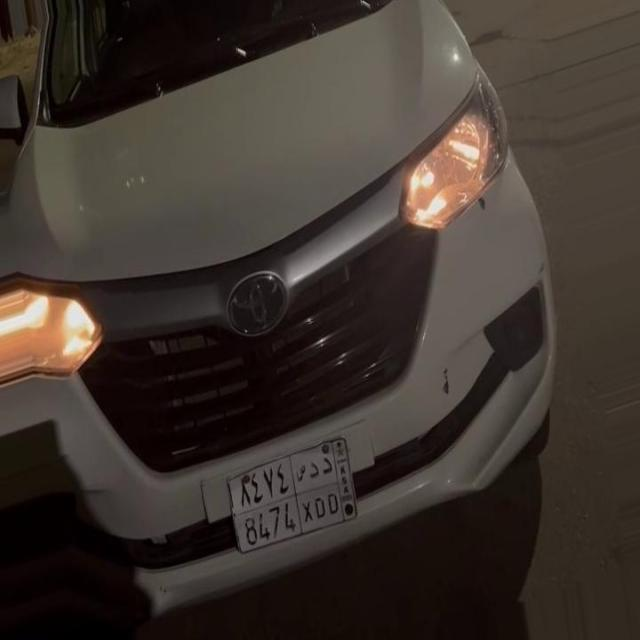Car-plate: (211, 419, 381, 571)
